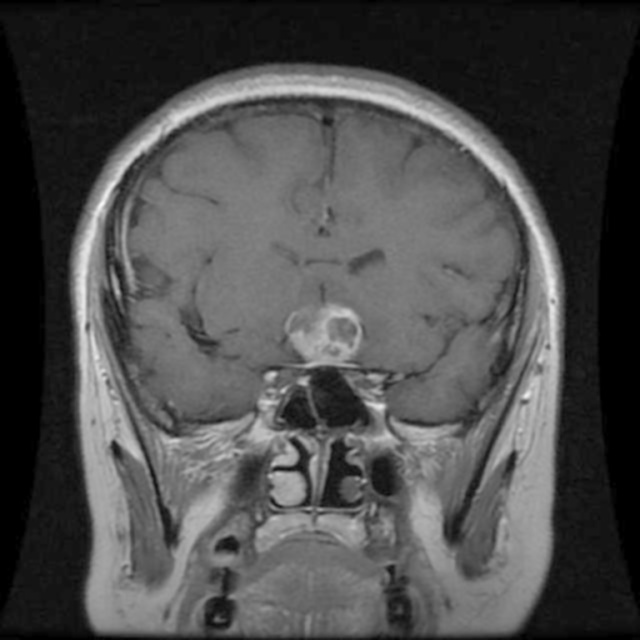no tumor: (276, 285, 374, 371)
